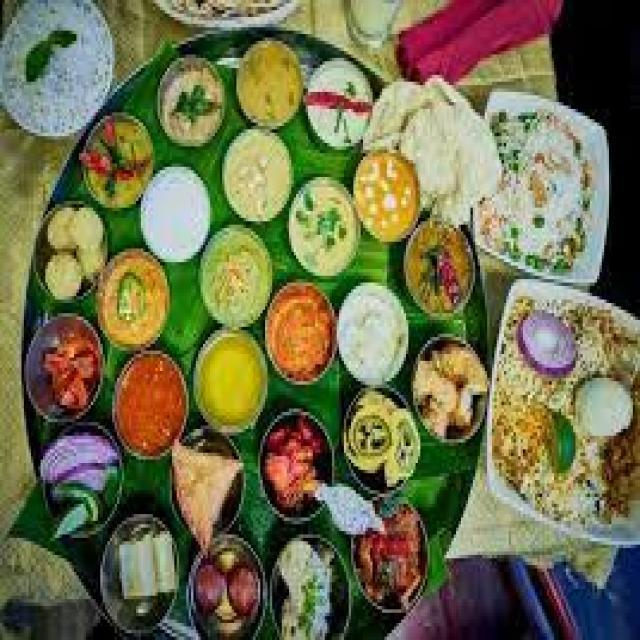curd: (136, 167, 219, 258)
papad: (400, 93, 497, 222), (166, 439, 251, 532)
pickle: (29, 317, 107, 418)
raita: (135, 167, 219, 261)
rice: (476, 91, 611, 285), (0, 6, 119, 150)
